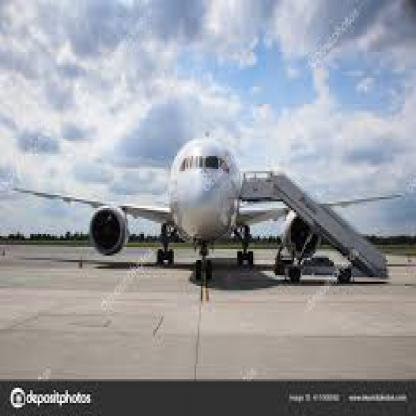boarding stairs: (237, 169, 389, 286)
